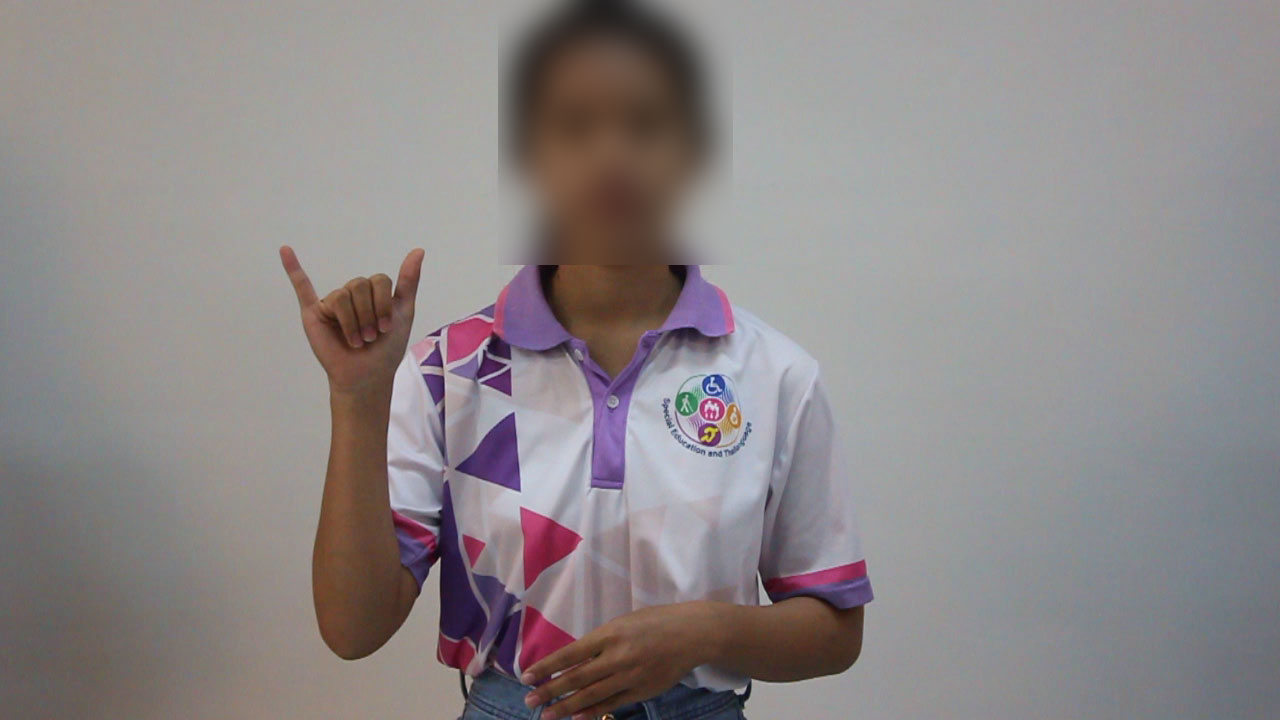yor: (265, 239, 449, 404)
